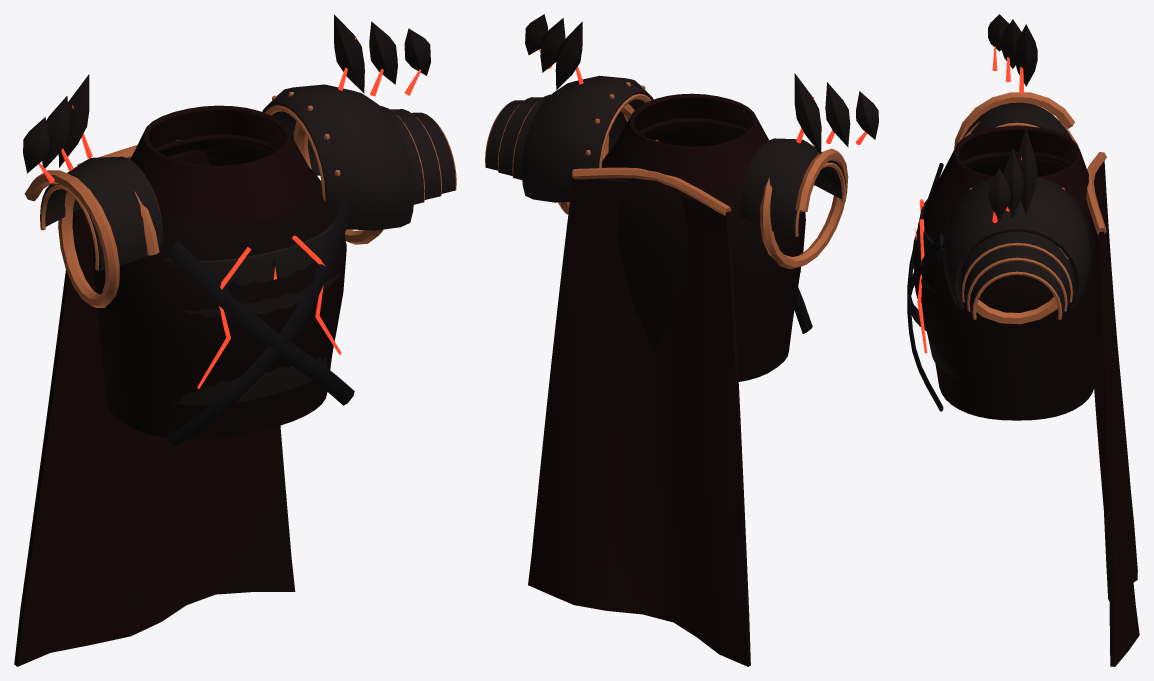
File: asc_abyssal_fang_armor.glb
3 views of the same model, side by side, from view 1: azimuth 30°, elevation 25°; view 2: azimuth 150°, elevation 25°; view 3: azimuth 270°, elevation 25° (orthographic). The views are drawn at different scales.
Visible parts, largest first — view 1: asc_abyssal_fang_armor, AT_upper_arm_L, AT_upper_arm_R; view 2: asc_abyssal_fang_armor, AT_upper_arm_L, AT_upper_arm_R; view 3: asc_abyssal_fang_armor, AT_upper_arm_L, AT_upper_arm_R.
Boxes of the visible parts, x1,y1,x2,y2 form: asc_abyssal_fang_armor: [14, 14, 430, 666]; AT_upper_arm_L: [262, 84, 456, 244]; AT_upper_arm_R: [24, 156, 163, 307]; asc_abyssal_fang_armor: [525, 14, 878, 666]; AT_upper_arm_L: [485, 75, 658, 214]; AT_upper_arm_R: [739, 138, 848, 269]; asc_abyssal_fang_armor: [907, 14, 1139, 666]; AT_upper_arm_L: [943, 176, 1091, 324]; AT_upper_arm_R: [954, 92, 1077, 148].
Size of the model in its own units: 0.9437 by 1.37 by 0.5229.
